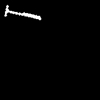half_double_crochet: (5, 5, 40, 19)
